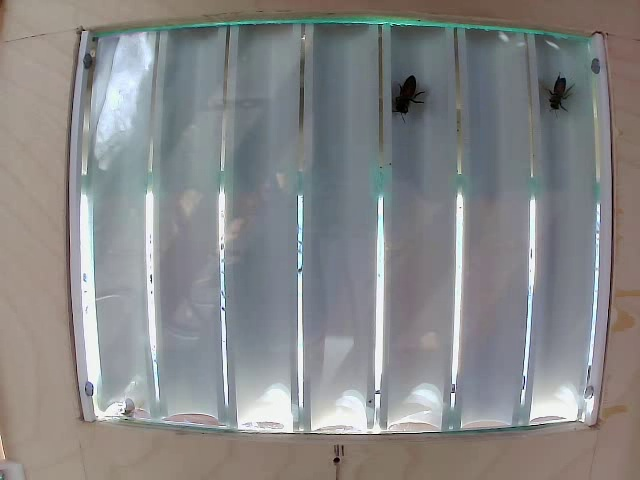bee: (391, 74, 427, 133), (541, 67, 568, 115)
